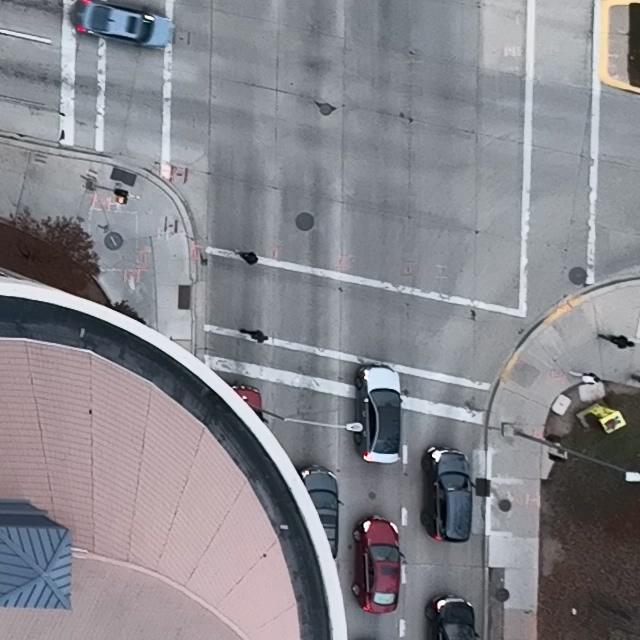car: (419, 446, 475, 542), (352, 515, 405, 615), (70, 0, 172, 49), (355, 363, 404, 464), (297, 463, 345, 560), (424, 594, 479, 640)
